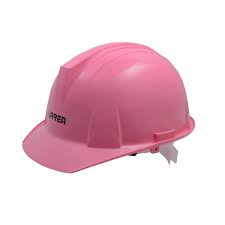Casco de seguridad: (20, 38, 200, 178)
